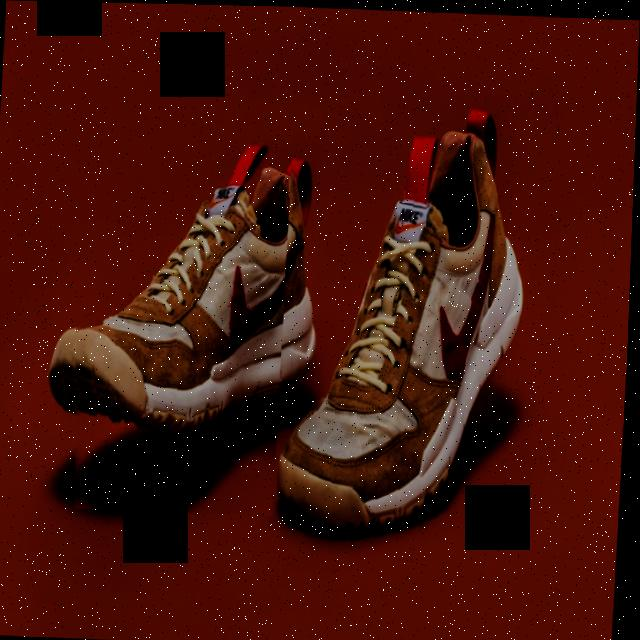shoe: (272, 59, 569, 597), (59, 83, 351, 517)
